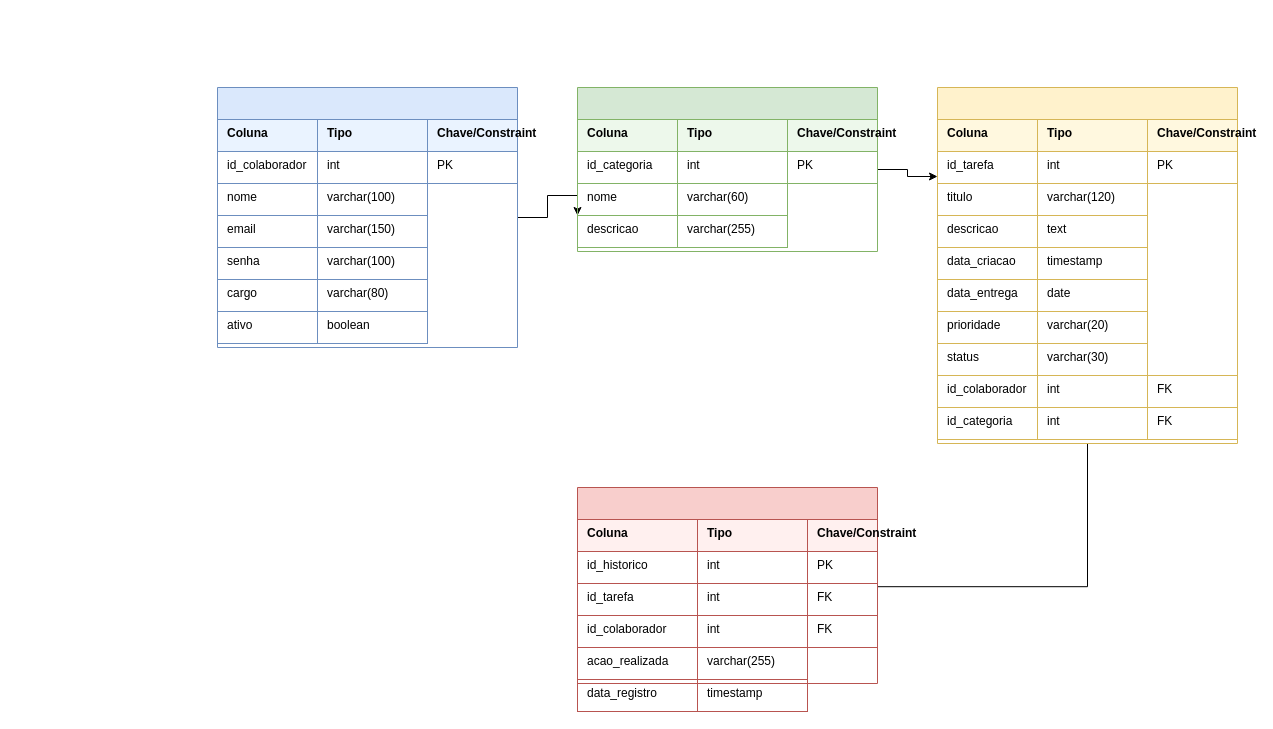
Image size: 1273x729. Some labels were removed from this diagram. The shapes that lost their labels are listed below. From the top down, each one's box as (x1, y1, x2, y2) in pixels, then its label:
(576, 86, 878, 252): categorias
(216, 86, 518, 348): colaboradores
(936, 86, 1238, 444): tarefas
(576, 486, 878, 684): historico_tarefas
